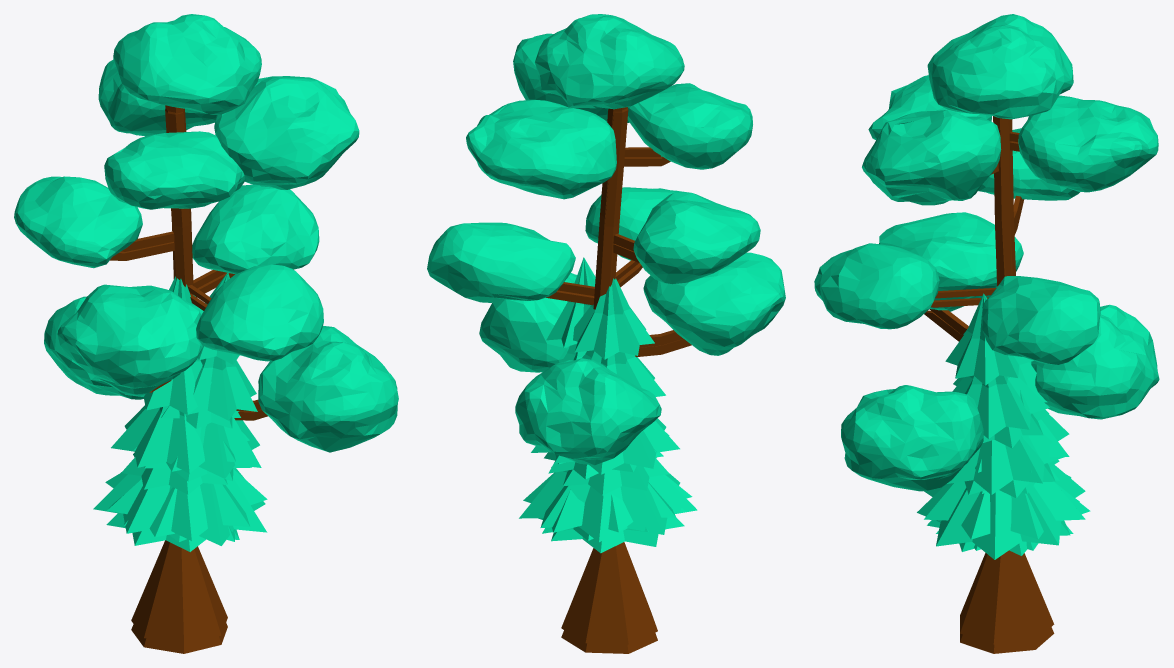
File: FPSLowPolyTrees.fbx
3 views of the same model, side by side, from view 1: azimuth 30°, elevation 25°; view 2: azimuth 150°, elevation 25°; view 3: azimuth 270°, elevation 25° (orthographic).
Visible parts, largest first — view 1: NewPineTree, BigTreeStraight, BigTree, DeadPineTree, SmallTreeStraight, SmallTree; view 2: NewPineTree, BigTreeStraight, BigTree, DeadPineTree, SmallTreeStraight, SmallTree; view 3: NewPineTree, BigTree, BigTreeStraight, SmallTree, DeadPineTree.
Part boxes in pixels (x1=…): NewPineTree: x1=14, y1=14, x2=398, y2=644; BigTreeStraight: x1=93, y1=276, x2=267, y2=540; BigTree: x1=105, y1=272, x2=267, y2=545; DeadPineTree: x1=110, y1=108, x2=267, y2=653; SmallTreeStraight: x1=106, y1=453, x2=239, y2=551; SmallTree: x1=124, y1=405, x2=251, y2=541; NewPineTree: x1=427, y1=14, x2=785, y2=644; BigTreeStraight: x1=523, y1=278, x2=697, y2=542; BigTree: x1=519, y1=257, x2=692, y2=532; DeadPineTree: x1=546, y1=108, x2=691, y2=653; SmallTreeStraight: x1=538, y1=457, x2=684, y2=553; SmallTree: x1=542, y1=452, x2=686, y2=540; NewPineTree: x1=814, y1=14, x2=1159, y2=644; BigTree: x1=917, y1=293, x2=1090, y2=559; BigTreeStraight: x1=924, y1=284, x2=1085, y2=539; SmallTree: x1=927, y1=409, x2=1079, y2=555; DeadPineTree: x1=924, y1=116, x2=1054, y2=653.
Size of the model in its own units: 1796 by 3391 by 1740.
